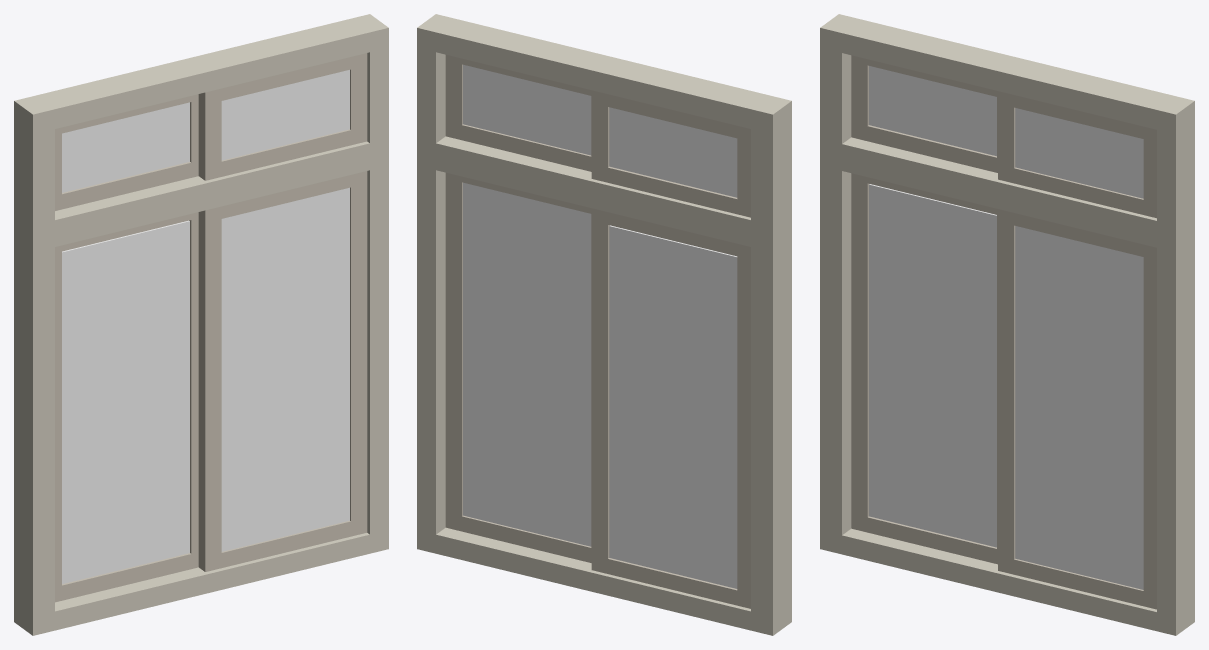
Rendered from window.fbx.
The picture shows the model from 3 angles, left to right: view 1: azimuth 30°, elevation 25°; view 2: azimuth 150°, elevation 25°; view 3: azimuth 330°, elevation 25°; orthographic projection.
Parts seen in each view (by area): view 1: Box005, Box008, Box011, Box001, Box002, Box013, Box012, Box004, Box003; view 2: Box005, Box008, Box011, Box002, Box001, Box013, Box012, Box003, Box004; view 3: Box005, Box008, Box011, Box001, Box002, Box013, Box012, Box004, Box003.
Part boxes in pixels (x1,y1,x2,y2): Box005: (14,14,388,635); Box008: (221,187,349,551); Box011: (62,220,189,583); Box001: (198,171,367,571); Box002: (55,212,198,602); Box013: (221,70,349,160); Box012: (62,102,189,192); Box004: (198,53,367,180); Box003: (55,94,198,210); Box005: (417,14,791,635); Box008: (463,182,591,546); Box011: (609,225,737,588); Box002: (591,208,750,608); Box001: (445,172,591,562); Box013: (463,64,591,155); Box012: (609,107,737,197); Box003: (591,90,750,217); Box004: (445,55,591,171); Box005: (820,14,1194,635); Box008: (1015,226,1143,589); Box011: (869,184,996,547); Box001: (998,209,1156,609); Box002: (851,173,997,564); Box013: (1015,108,1143,198); Box012: (869,66,996,156); Box004: (998,91,1156,218); Box003: (851,55,997,172).
Bounding box in the file's own units: 97.51 × 136 × 8.94.
